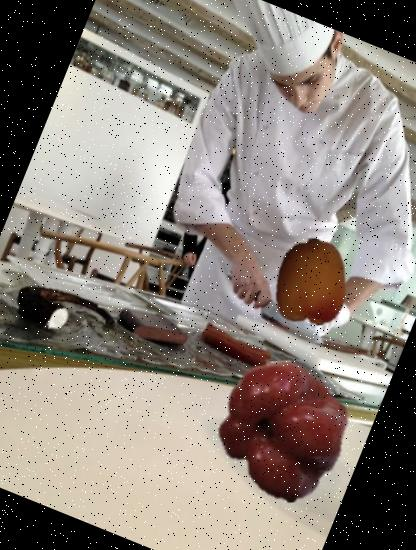Apricot: (253, 226, 366, 338)
Pepper: (191, 339, 376, 524)
